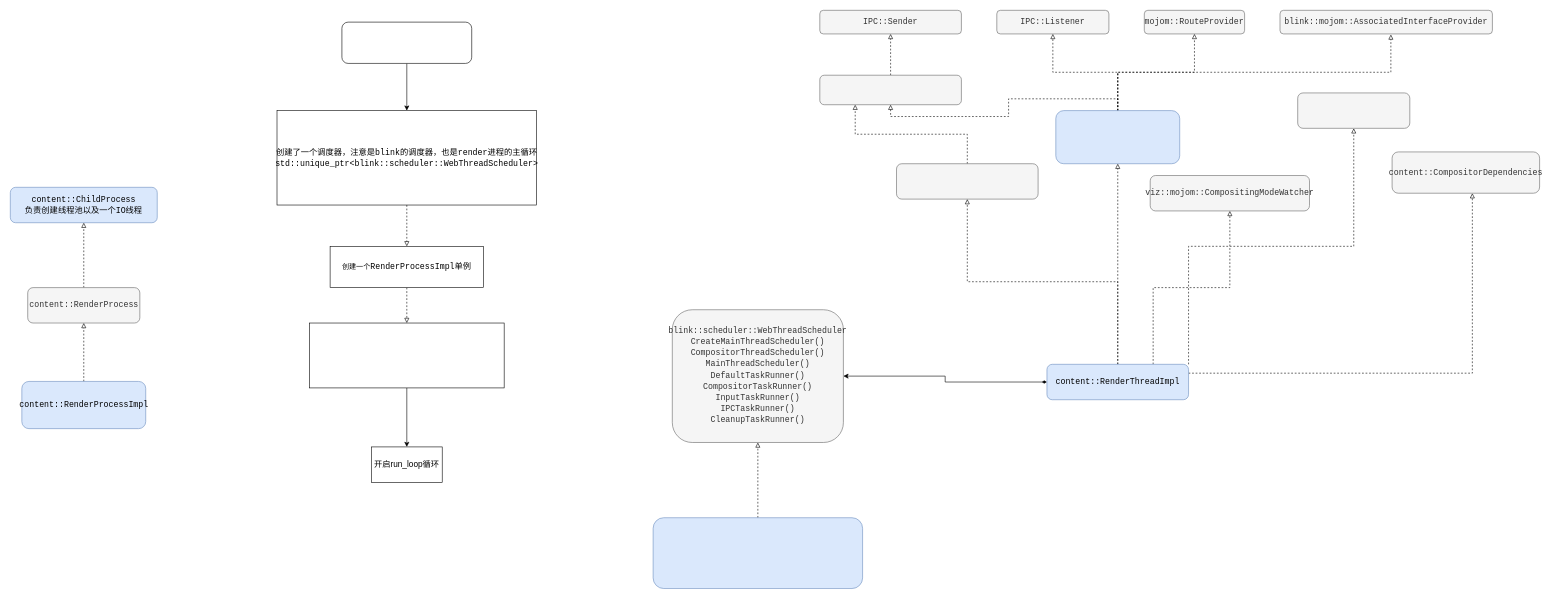
The diagram is 1553 pixels wide and 599 high, and some of its shapes have lost their labels. Here are the shapes that lost their labels. From the top down, the centre of each, then its label:
point 406,42: content::RendererMain
point 890,90: content:: ChildThread
point 1353,110: mojom::Renderer
point 1117,137: content:: ChildThreadImpl 负责与browser进行ipc通信，ipc的taskrunner就是blink创建的
point 967,181: content:: RenderThread
point 406,355: 创建run_loop 创建了一个 RenderThreadImpl对象，并且将run_loop.quitclosure给到了它，以及将调度器的所有权到它
point 758,553: blink::scheduler :: MainThreadSchedulerImpl 所有的task runner、循环什么的全在这里
